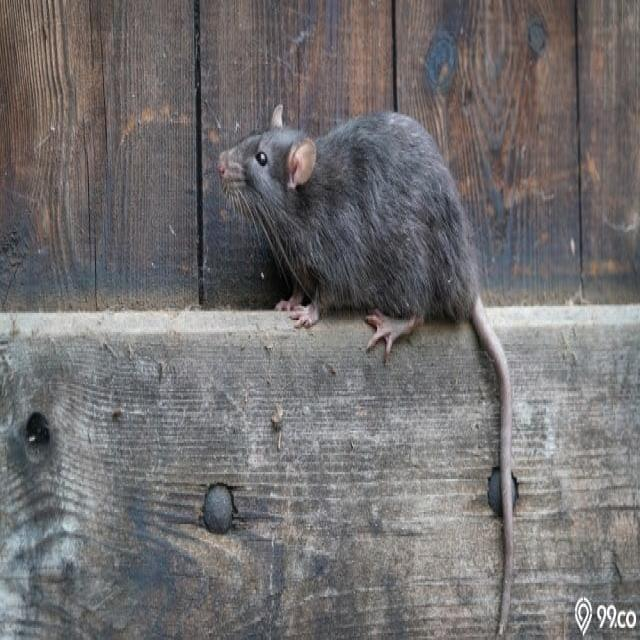rat: (216, 81, 490, 356)
